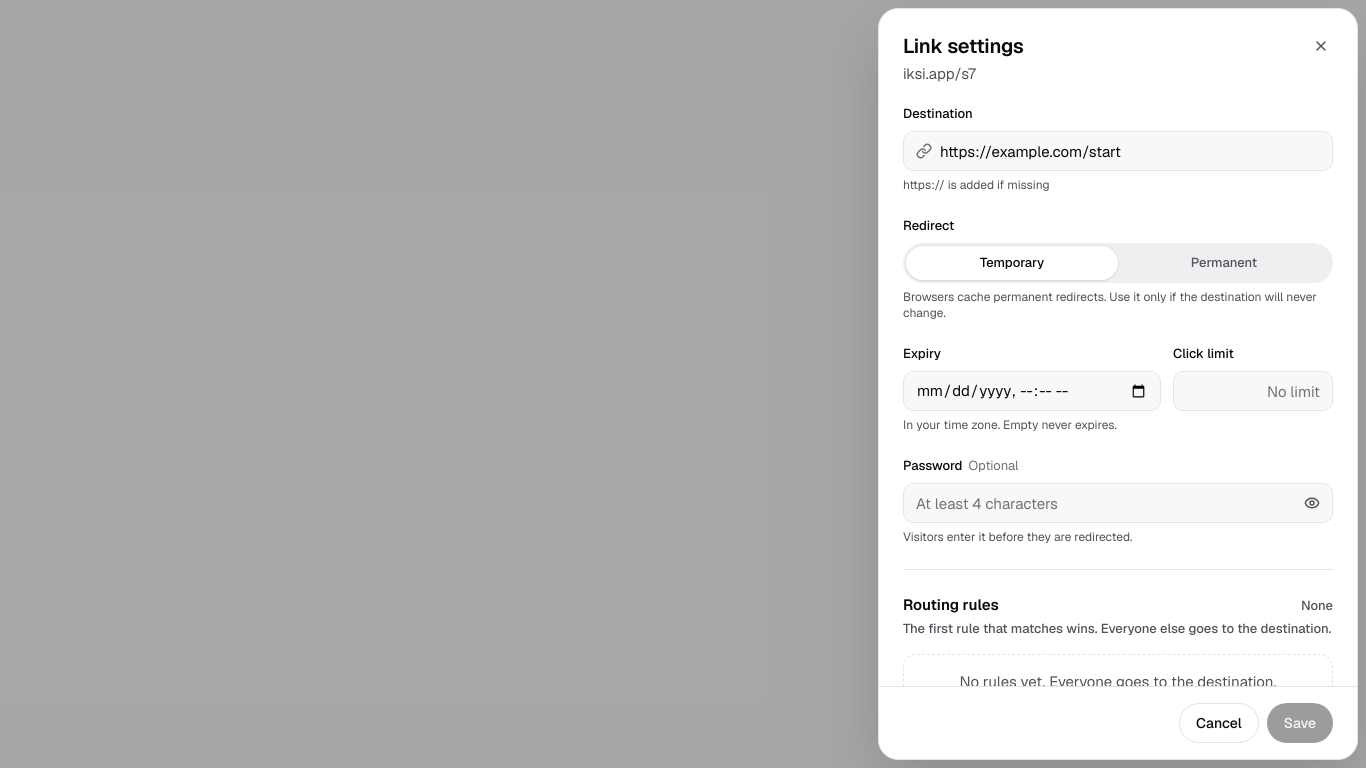
LinkSettings › keeps Save disabled with no changes
Check: the button "Save" is disabled, box [1267,703,1333,743]
Step 1. Replace the text in the field labelled "Destination" with "https://example.com/new" → [1130, 151], box [940,132,1320,170]
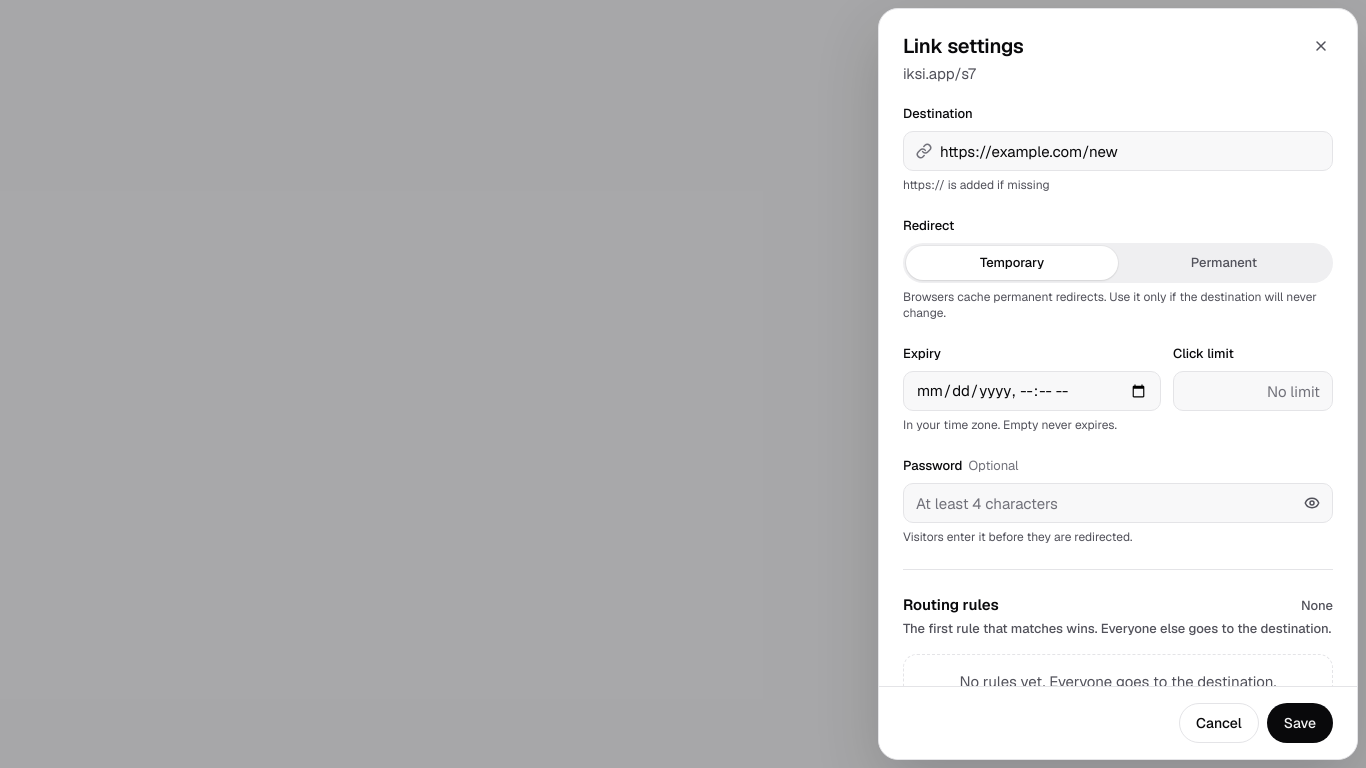
Check: the button "Save" is enabled, box [1267,703,1333,743]
Step 2. Replace the text in the field labelled "Destination" with "https://example.com/start" → [1130, 151], box [940,132,1320,170]
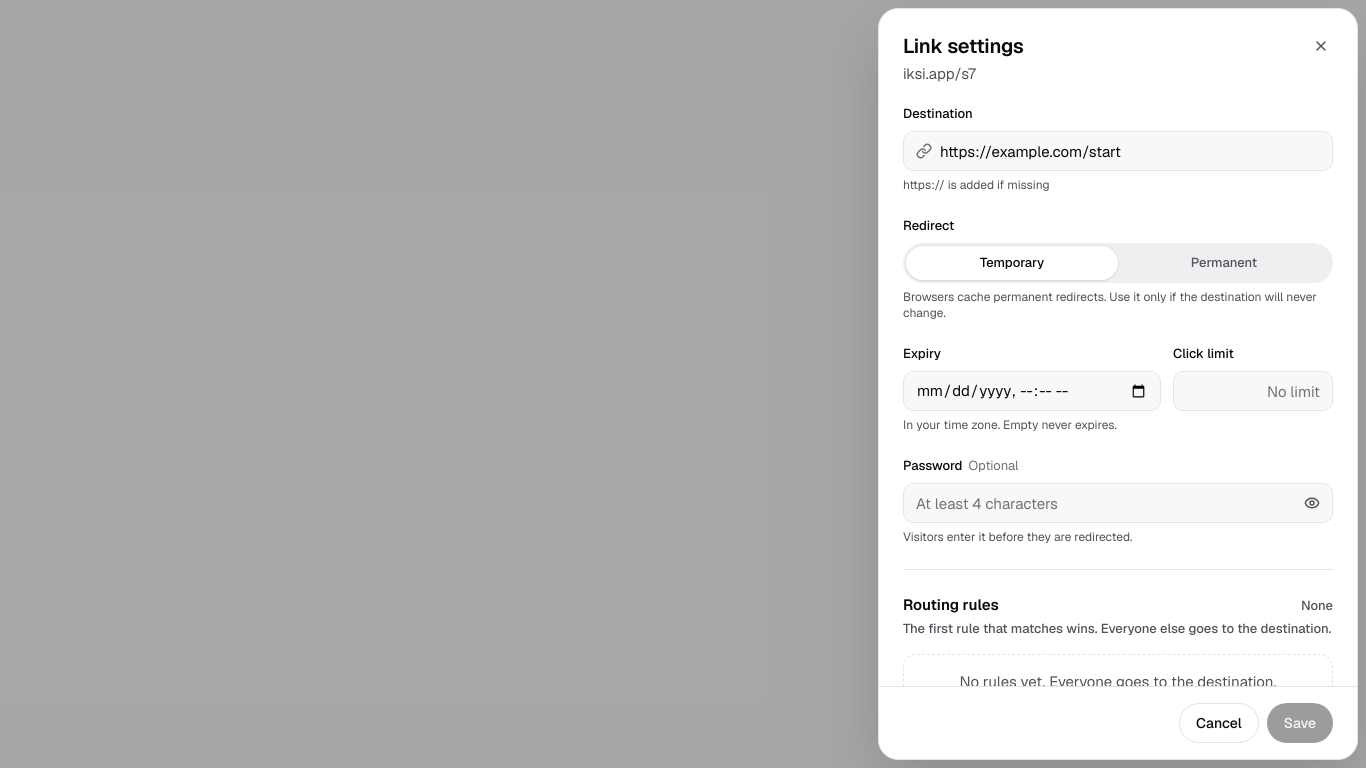
Check: the button "Save" is disabled, box [1267,703,1333,743]
